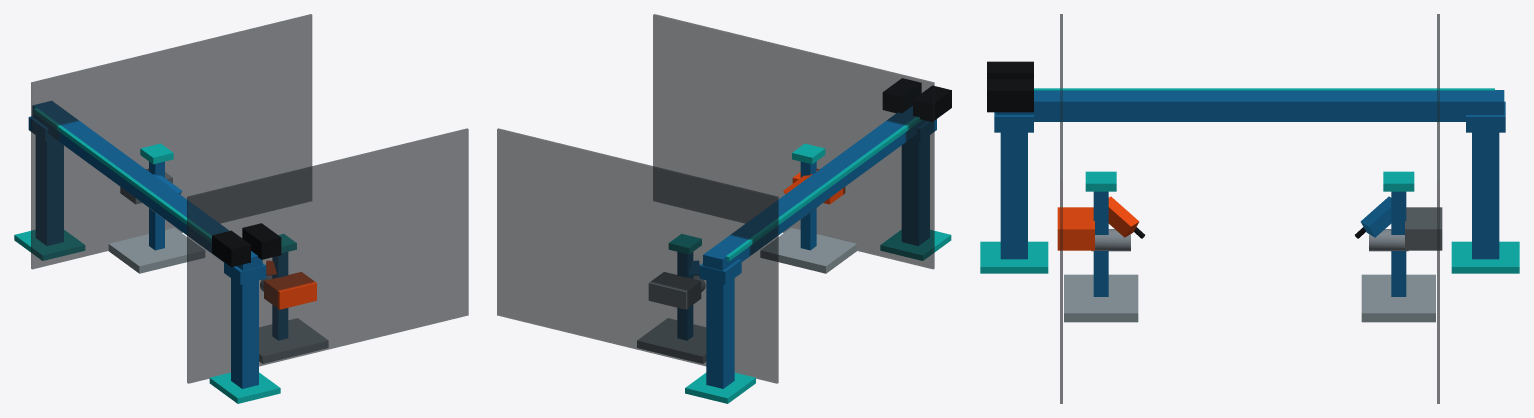
Rendered from spray_portal.dae.
The picture shows the model from 3 angles, left to right: view 1: azimuth 30°, elevation 25°; view 2: azimuth 150°, elevation 25°; view 3: azimuth 270°, elevation 25°; orthographic projection. The views are drawn at different scales.
Parts seen in each view (by area): view 1: spray_portal; view 2: spray_portal; view 3: spray_portal.
Boxes of the visible parts, left/top/right/bottom form: spray_portal: left=14, top=14, right=468, bottom=403; spray_portal: left=497, top=14, right=951, bottom=403; spray_portal: left=980, top=14, right=1519, bottom=403.
Bounding box in the file's own units: 3.15 × 4.35 × 2.
